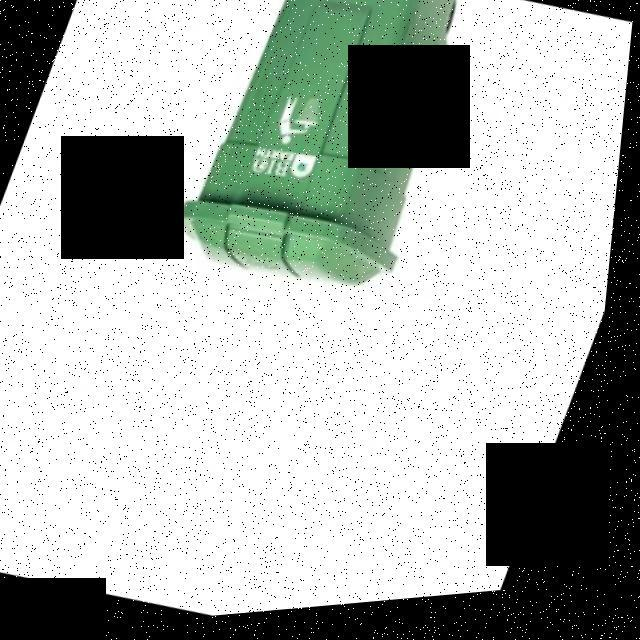bin: (62, 0, 529, 364)
